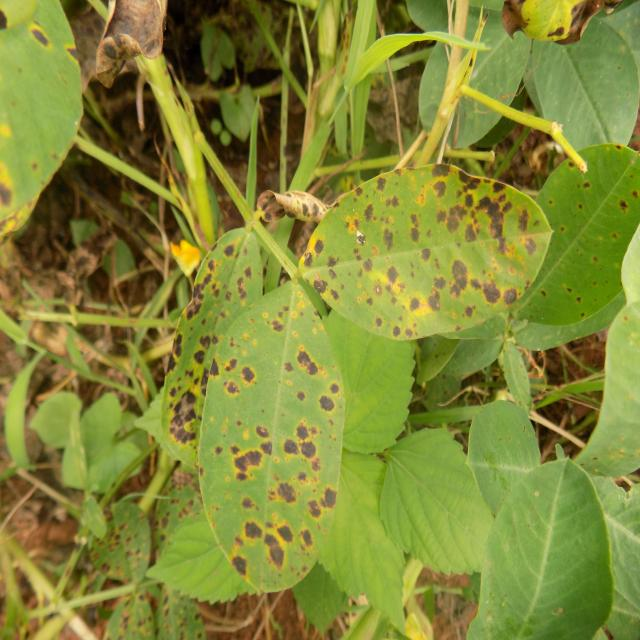Ground nut_tikka leaf spot: (201, 280, 346, 592), (300, 161, 550, 328), (516, 128, 638, 364), (484, 459, 610, 640), (158, 231, 261, 434), (503, 509, 505, 512)
